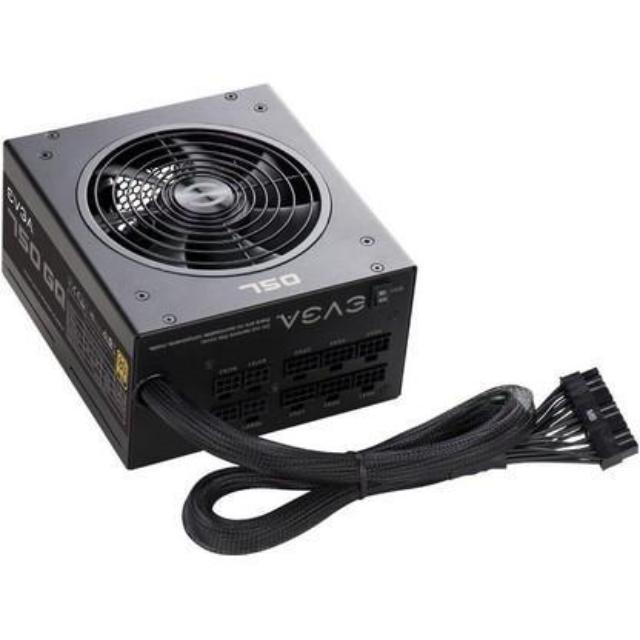PSU: (0, 72, 429, 500)
